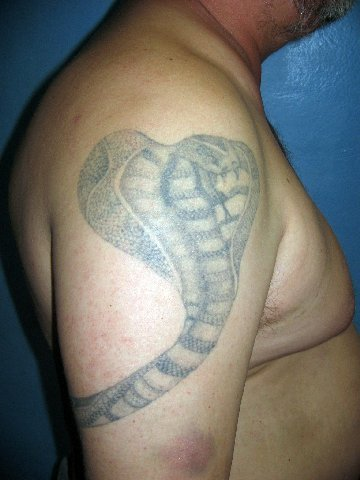tatu7_zmeya: (23, 79, 255, 423)
